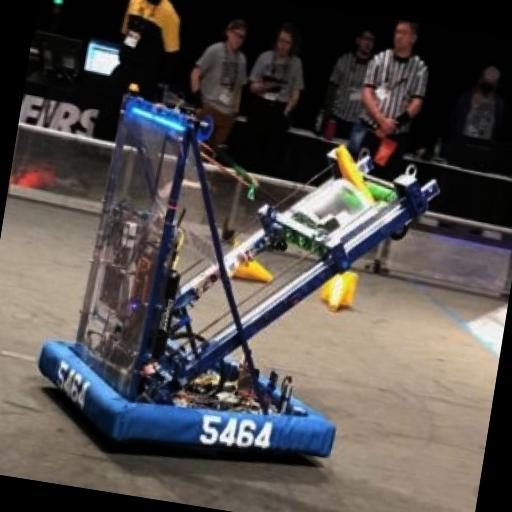robot: (30, 66, 452, 489)
